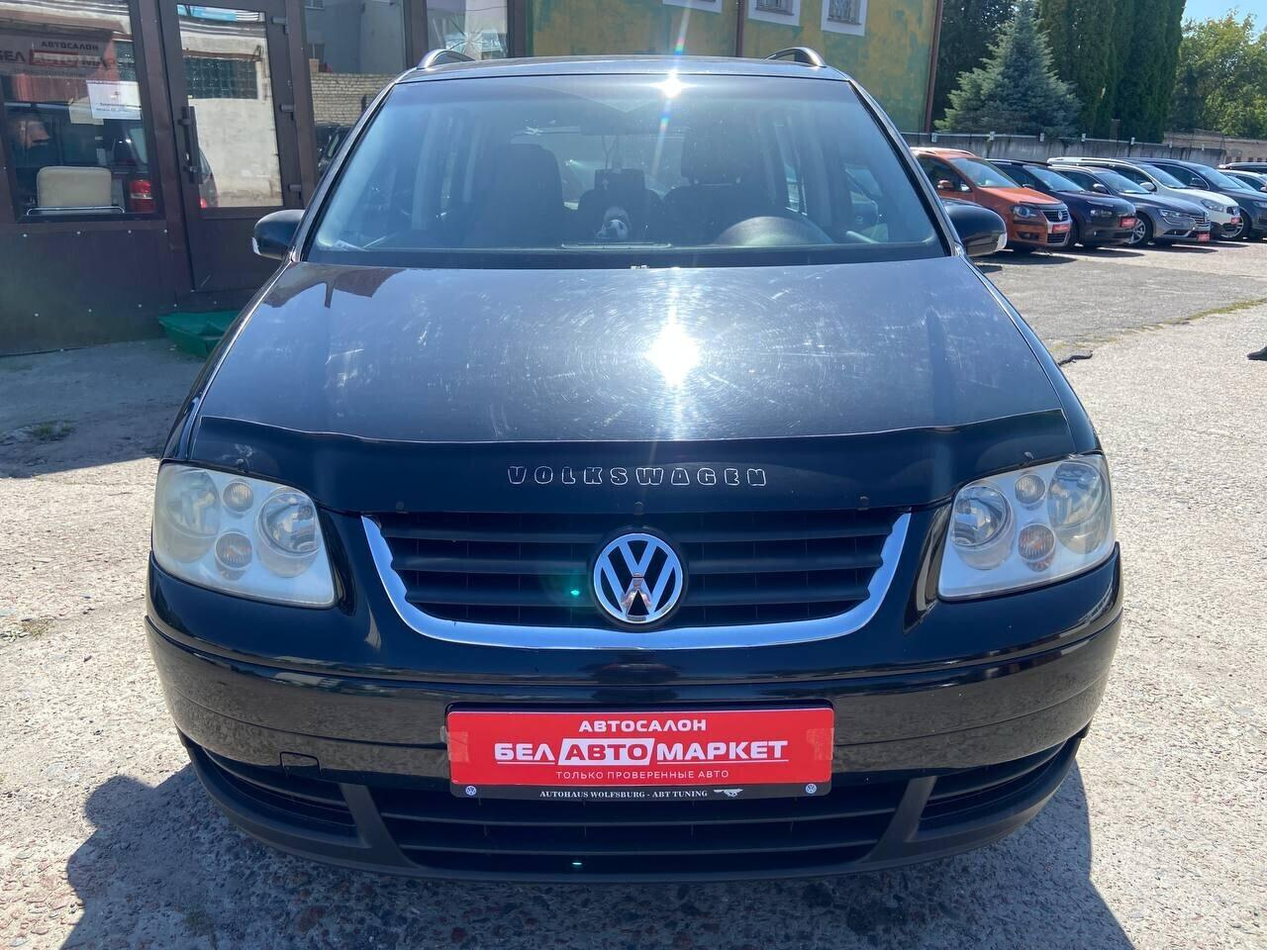Touran_2003-2006: (137, 52, 1130, 886)
